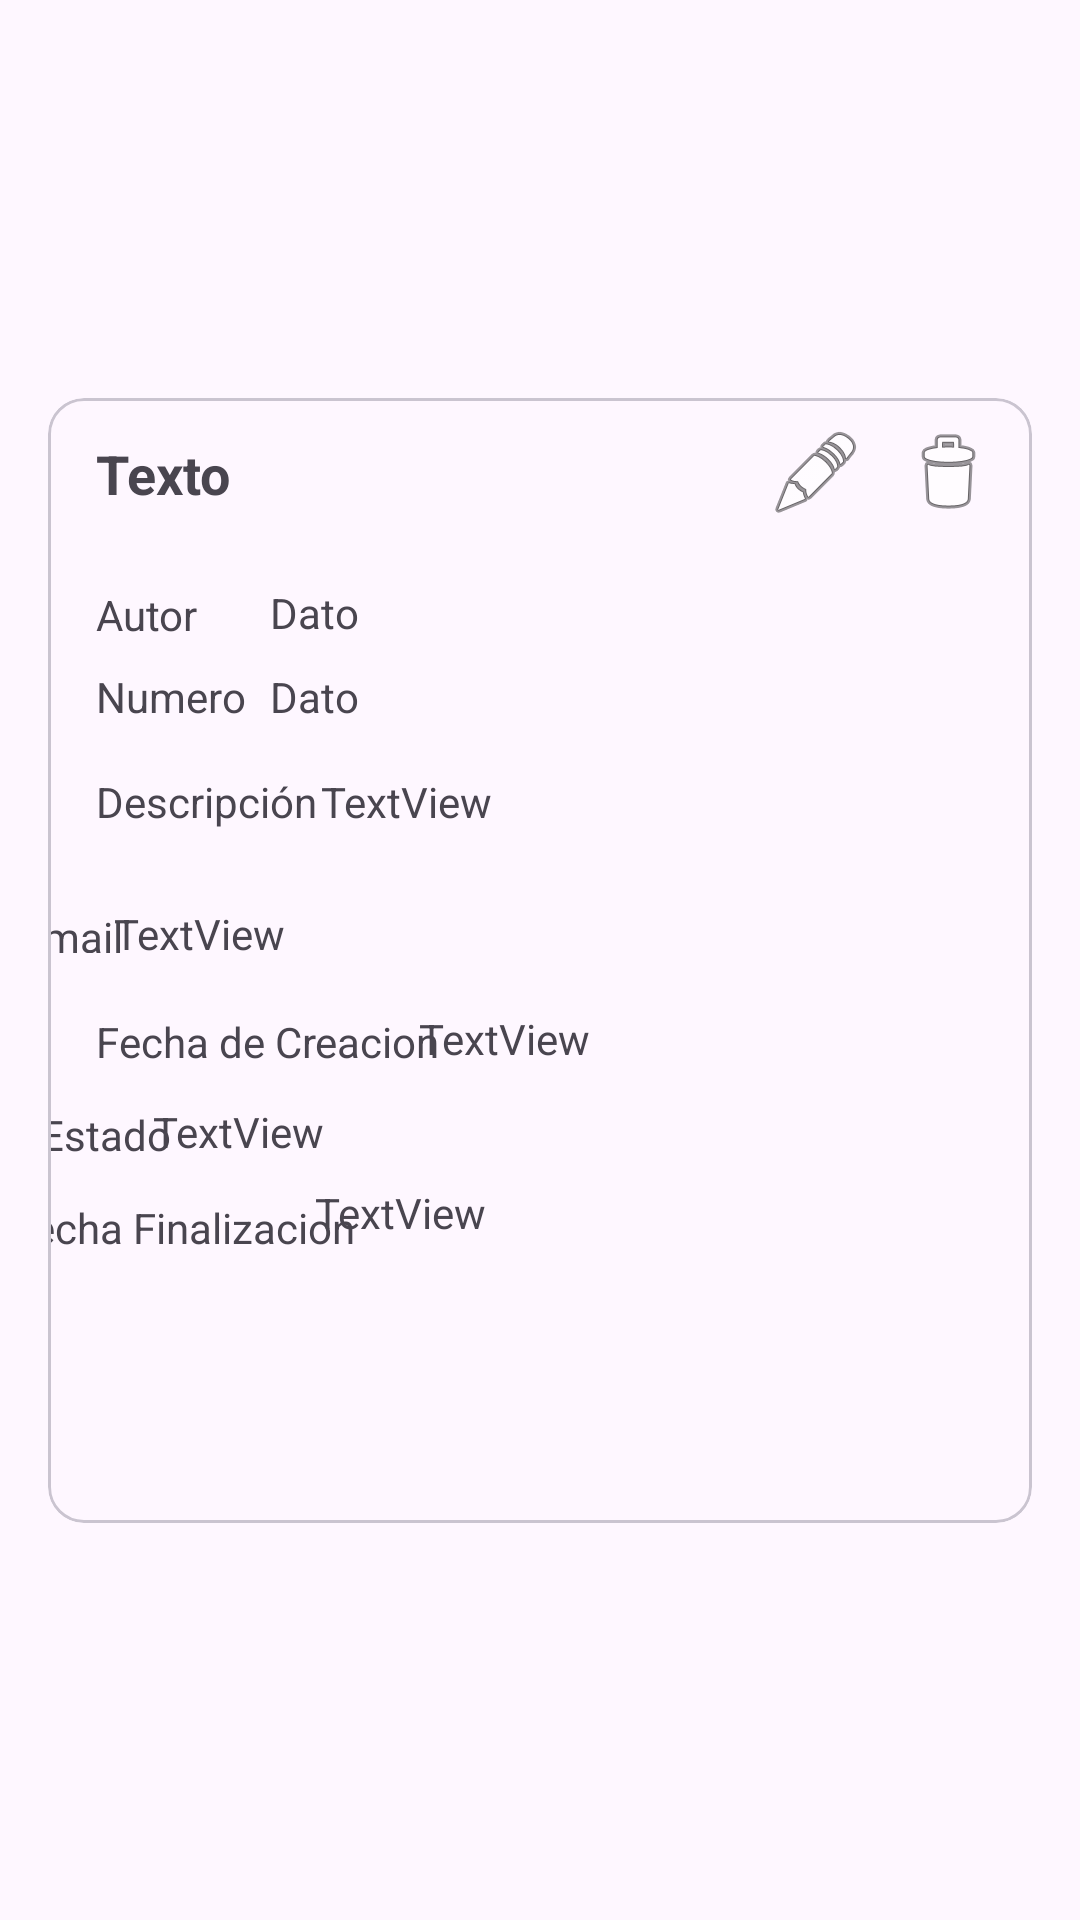

Icon click points for this 1080px x 1920px phone screenshot, format [x,y]:
delete: [948,471]
edit: [815,472]
